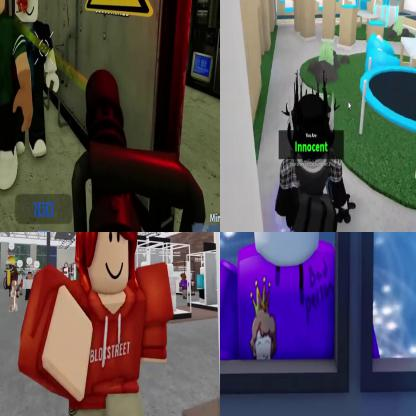Roblox-Avatar: (19, 233, 177, 416), (221, 233, 382, 363), (275, 69, 358, 232), (13, 1, 61, 160), (1, 1, 35, 189), (10, 269, 19, 314), (180, 273, 190, 301)
